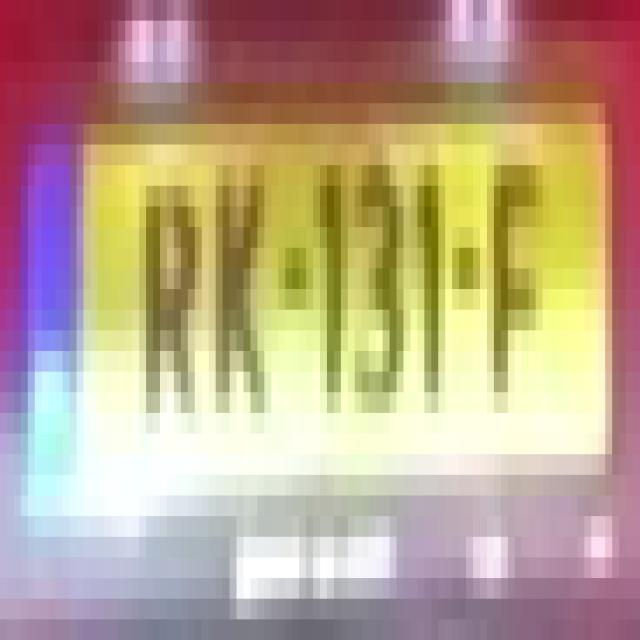Autre: (19, 90, 620, 525)
